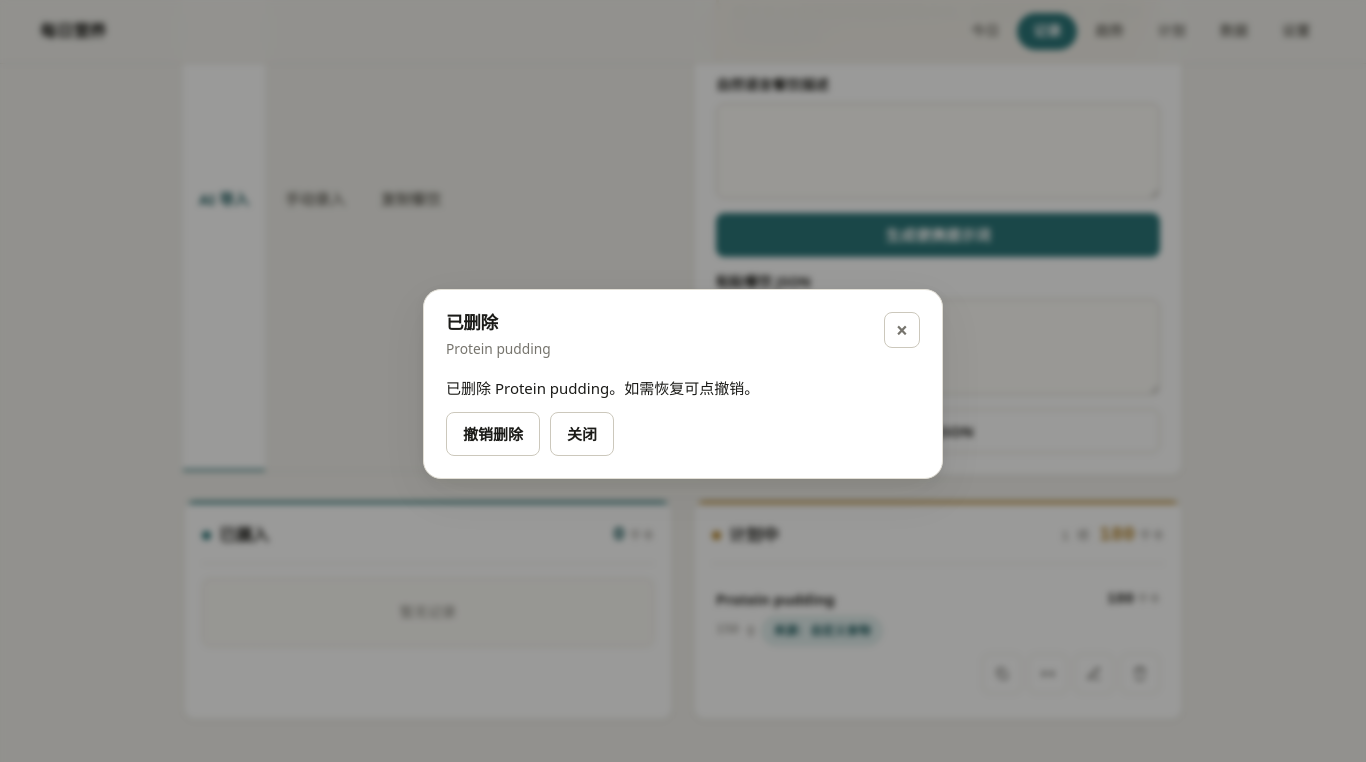
Test: manual food records support custom foods, planned versus consumed sections, copy, move, delete undo, and daily totals
Earlier steps of the test are not shown.
(page scrolled)
Click the button "撤销删除" at (493, 434), box [446,412,540,456]
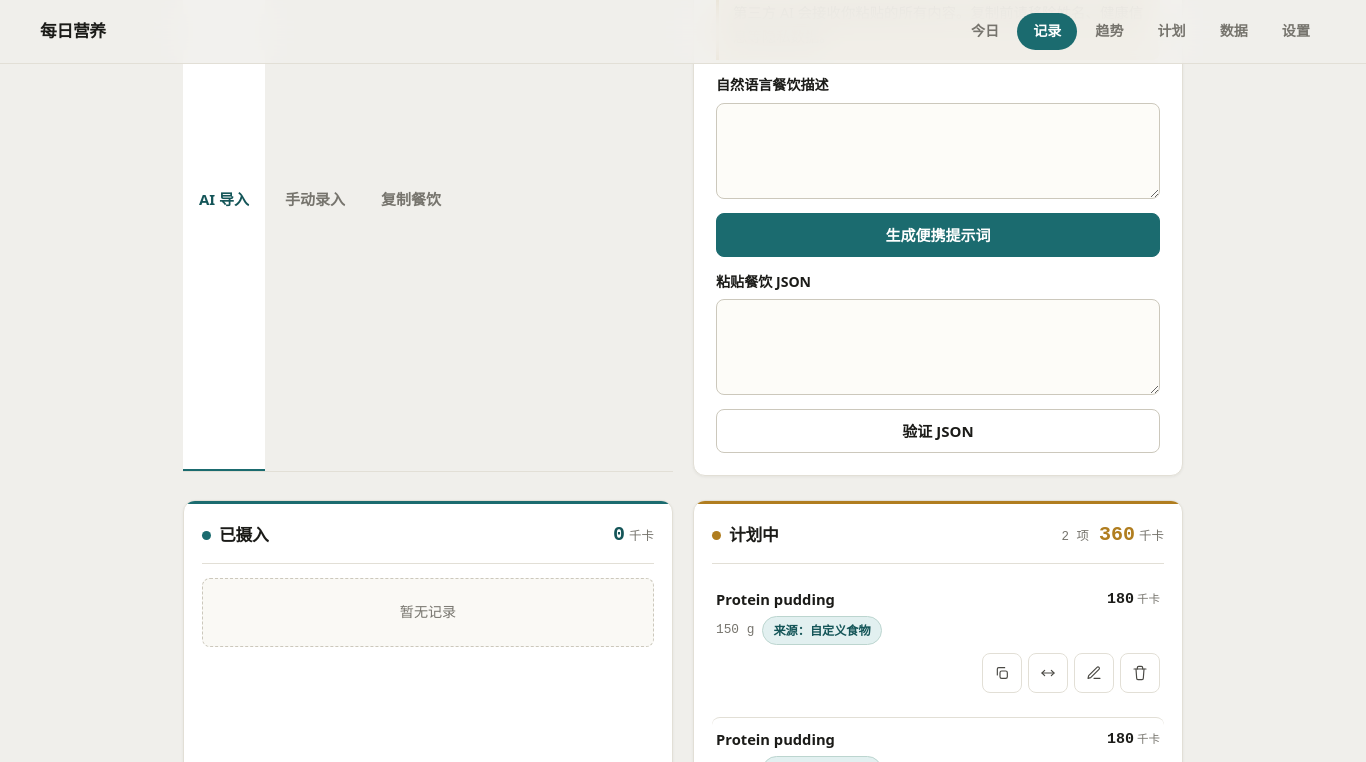
Expected: the number of buttons named "复制 Protein pudding" is 2
